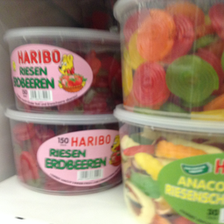candy: (109, 1, 224, 118), (112, 105, 223, 224), (1, 108, 125, 195), (4, 26, 121, 112)
